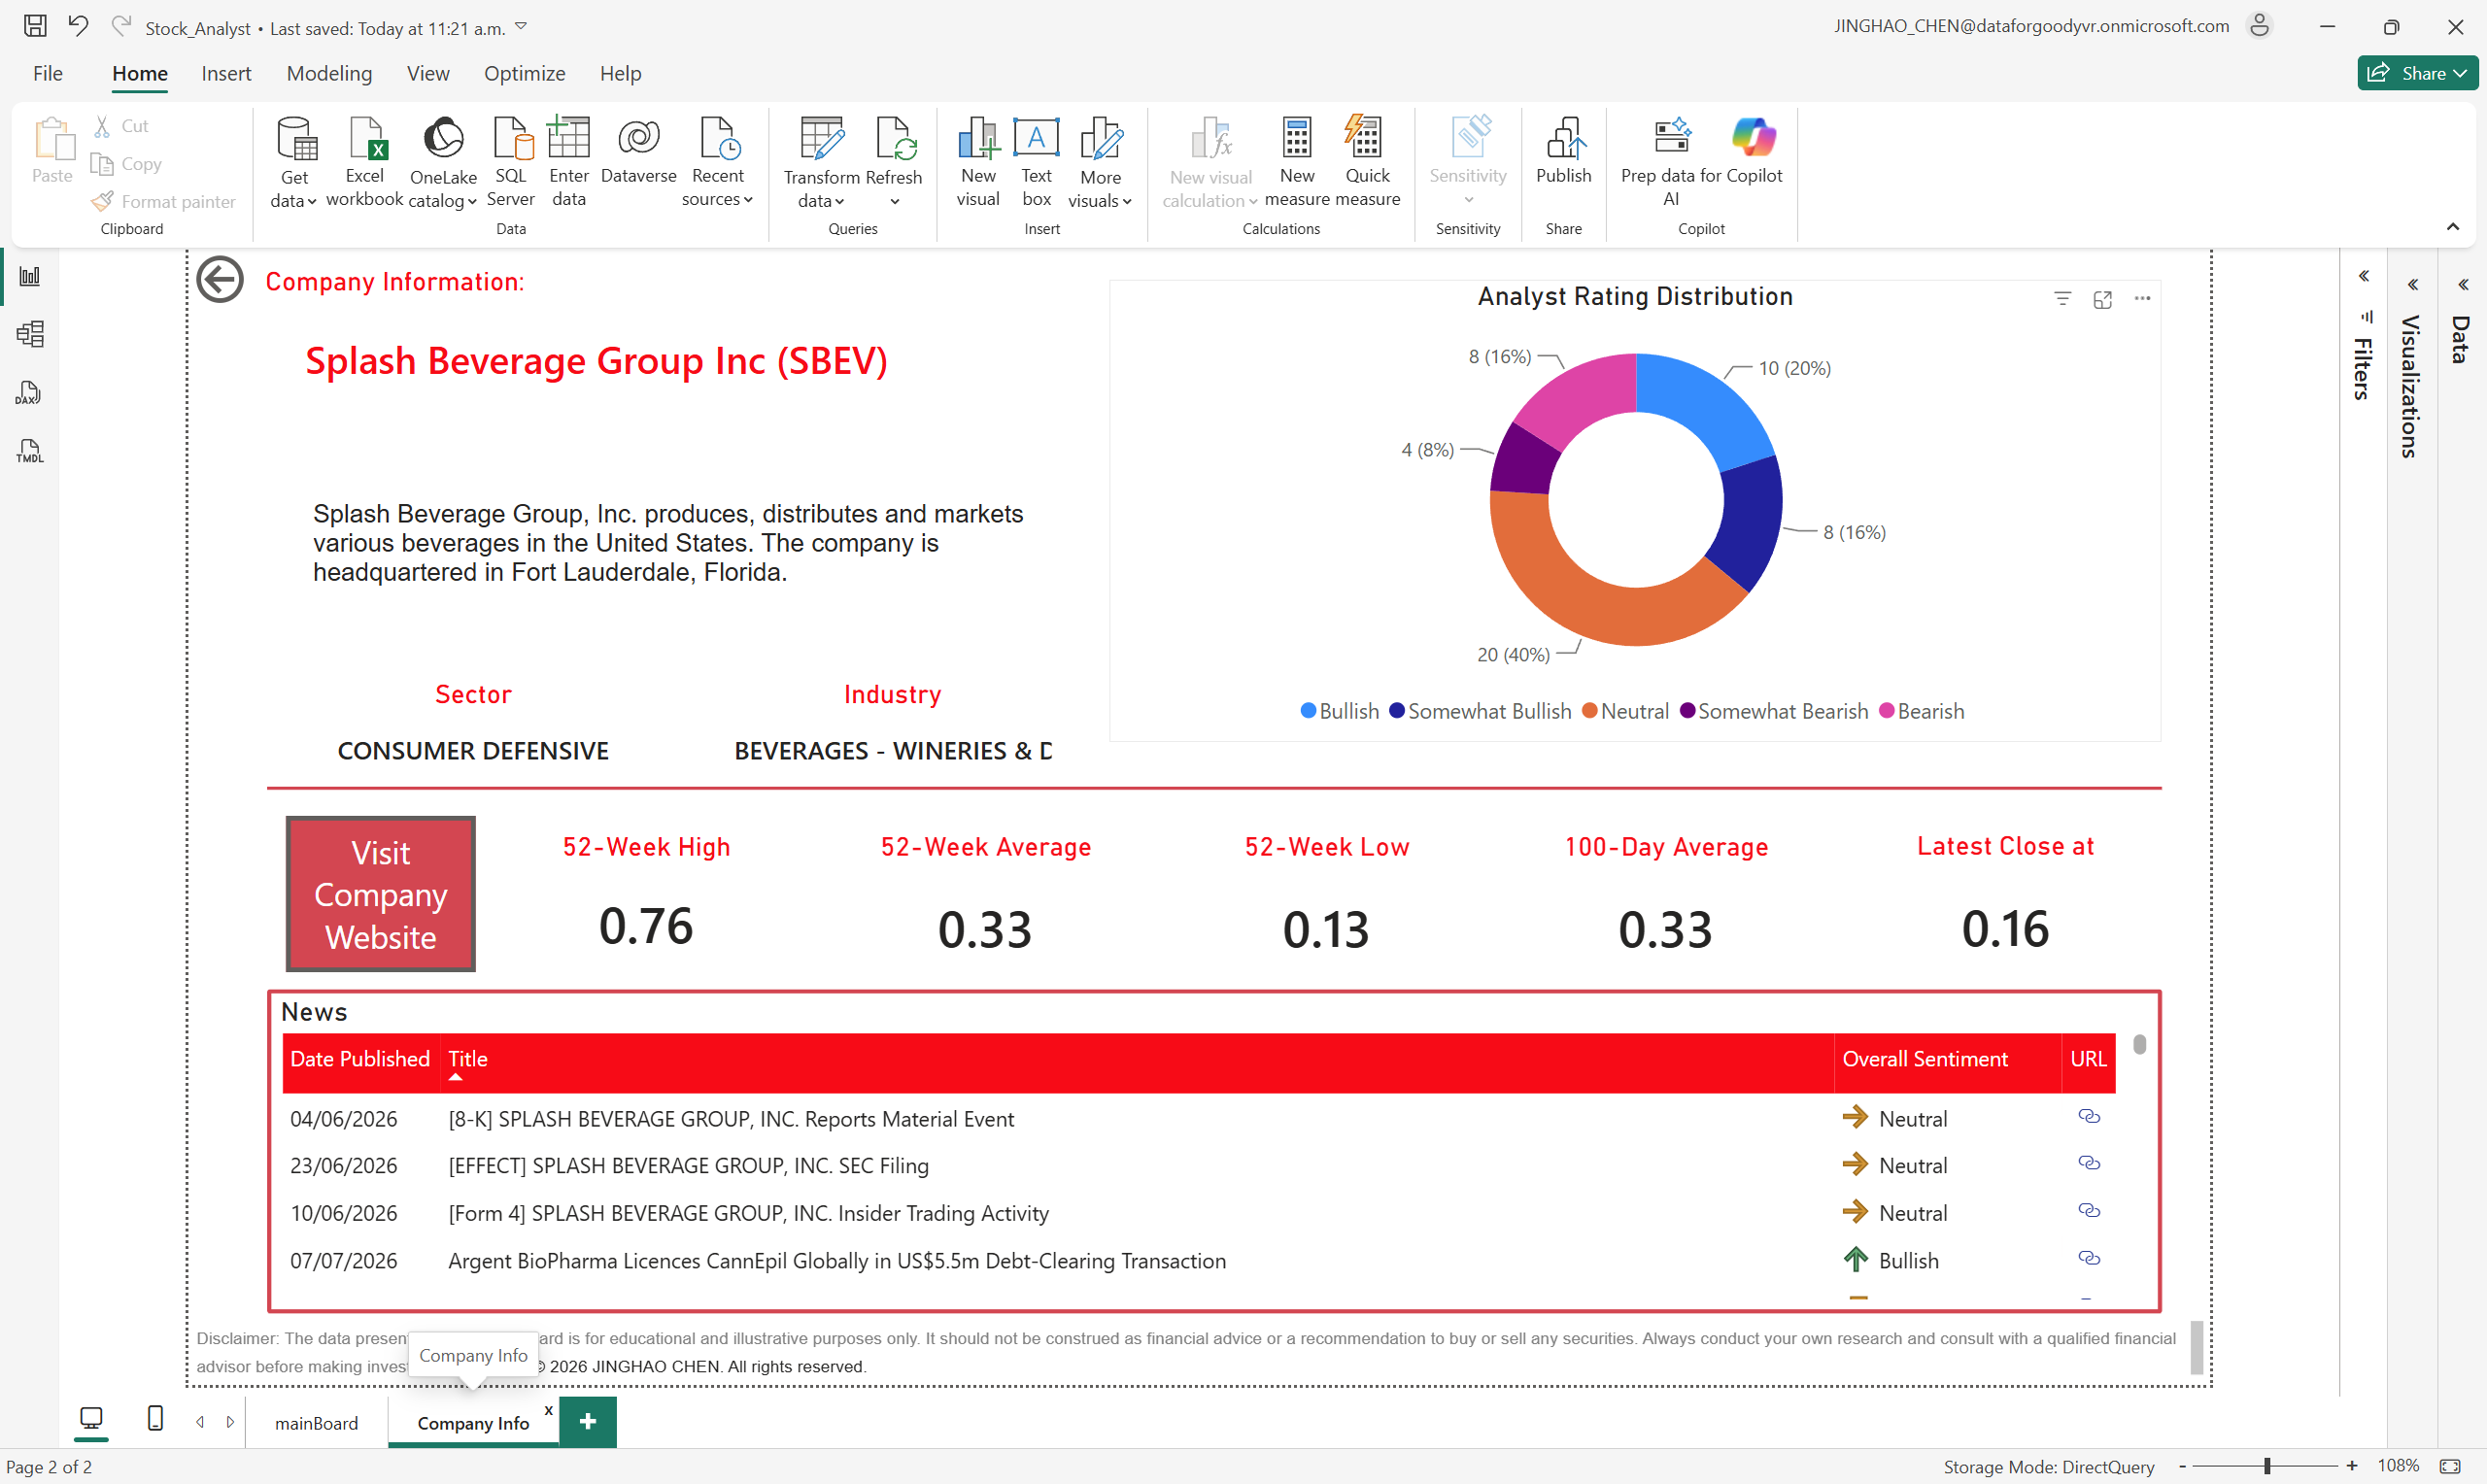

This screenshot's page, from the dashboard's own definition file:
{"tool":"powerbi","page":{"name":"Company Info","canvas":[1280,720],"ordinal":1},"visuals":[{"type":"textbox","box":[0,674,1280,45],"z":0},{"type":"tableEx","title":"News","fields":{"Values":["stg_news.time_published","stg_news.title","stg_news.overall_sentiment_label","stg_news.url"]},"box":[50,469,1199,205],"z":1000},{"type":"actionButton","box":[0,0,100,40],"z":3000},{"type":"cardVisual","fields":{"Data":["business_info.Dynamic_Company_Description"]},"box":[50.2,100.3,532.5,171.7],"z":4000},{"type":"actionButton","title":"555","box":[62,360,120,99],"z":5000},{"type":"cardVisual","title":"Sector","fields":{"Data":["business_info.Dynamic_Company_Sector"]},"box":[50.2,272,261.4,69.5],"z":6000},{"type":"cardVisual","title":"Industry","fields":{"Data":["business_info.Dynamic_Company_Industry"]},"box":[316.4,272,259.5,69.5],"z":7000},{"type":"group","id":"g1","title":"Group 1","box":[192.2,368.2,1056.7,101.1],"z":9000},{"type":"cardVisual","title":"52-Week High","fields":{"Data":["Sum(mart_daily_stock_summary.max_price_past_100days)"]},"box":[192.2,369.3,196,99.7],"z":9000,"group":"g1"},{"type":"cardVisual","title":"Company Information:","fields":{"Data":["business_info.Dynamic_Dashboard_Title"]},"box":[49.2,10.6,546,89.7],"z":10000},{"type":"cardVisual","title":"52-Week Low","fields":{"Data":["Sum(mart_daily_stock_summary.min_price_past_100days)"]},"box":[622.6,369.3,196,100],"z":10000,"group":"g1"},{"type":"shape","box":[49.6,331.7,1199.3,20.4],"z":11000},{"type":"cardVisual","title":"52-Week Average","fields":{"Data":["Sum(mart_daily_stock_summary.avg_close_price_past_100days)"]},"box":[407.4,369.3,196,100],"z":11000,"group":"g1"},{"type":"donutChart","title":"Analyst Rating Distribution","fields":{"Y":["Sum(mart_daily_stock_summary.bullish_count)","Sum(mart_daily_stock_summary.somewhat_bullish_count)","Sum(mart_daily_stock_summary.neutral_count)","Sum(mart_daily_stock_summary.somewhat_bearish_count)","Sum(mart_daily_stock_summary.bearish_count)"]},"box":[582.6,20.4,666.3,291.8],"z":12000},{"type":"cardVisual","title":"100-Day Average","fields":{"Data":["Sum(mart_daily_stock_summary.avg_close_price_past_100days)"]},"box":[837.7,369.3,196,100],"z":12000,"group":"g1"},{"type":"cardVisual","title":"Latest Close at","fields":{"Data":["stg_prices.Dynamic_company_Latest_price"]},"box":[1052.9,368.2,196,100],"z":15000,"group":"g1"}]}

Visuals, with their boxes on the page's 1280x720 design canvas (x1, y1, x2, y2). These are canvas units, not pixel positions in the 2487x1484 screenshot, which may show the page scaled, cropped or inside an application window:
textbox: bbox(0, 674, 1280, 719)
"News" tableEx: bbox(50, 469, 1249, 674)
actionButton: bbox(0, 0, 100, 40)
cardVisual - business_info.Dynamic_Company_Description: bbox(50, 100, 583, 272)
"555" actionButton: bbox(62, 360, 182, 459)
"Sector" cardVisual: bbox(50, 272, 312, 342)
"Industry" cardVisual: bbox(316, 272, 576, 342)
"Group 1" group: bbox(192, 368, 1249, 469)
"52-Week High" cardVisual: bbox(192, 369, 388, 469)
"Company Information:" cardVisual: bbox(49, 11, 595, 100)
"52-Week Low" cardVisual: bbox(623, 369, 819, 469)
shape: bbox(50, 332, 1249, 352)
"52-Week Average" cardVisual: bbox(407, 369, 603, 469)
"Analyst Rating Distribution" donutChart: bbox(583, 20, 1249, 312)
"100-Day Average" cardVisual: bbox(838, 369, 1034, 469)
"Latest Close at" cardVisual: bbox(1053, 368, 1249, 468)
